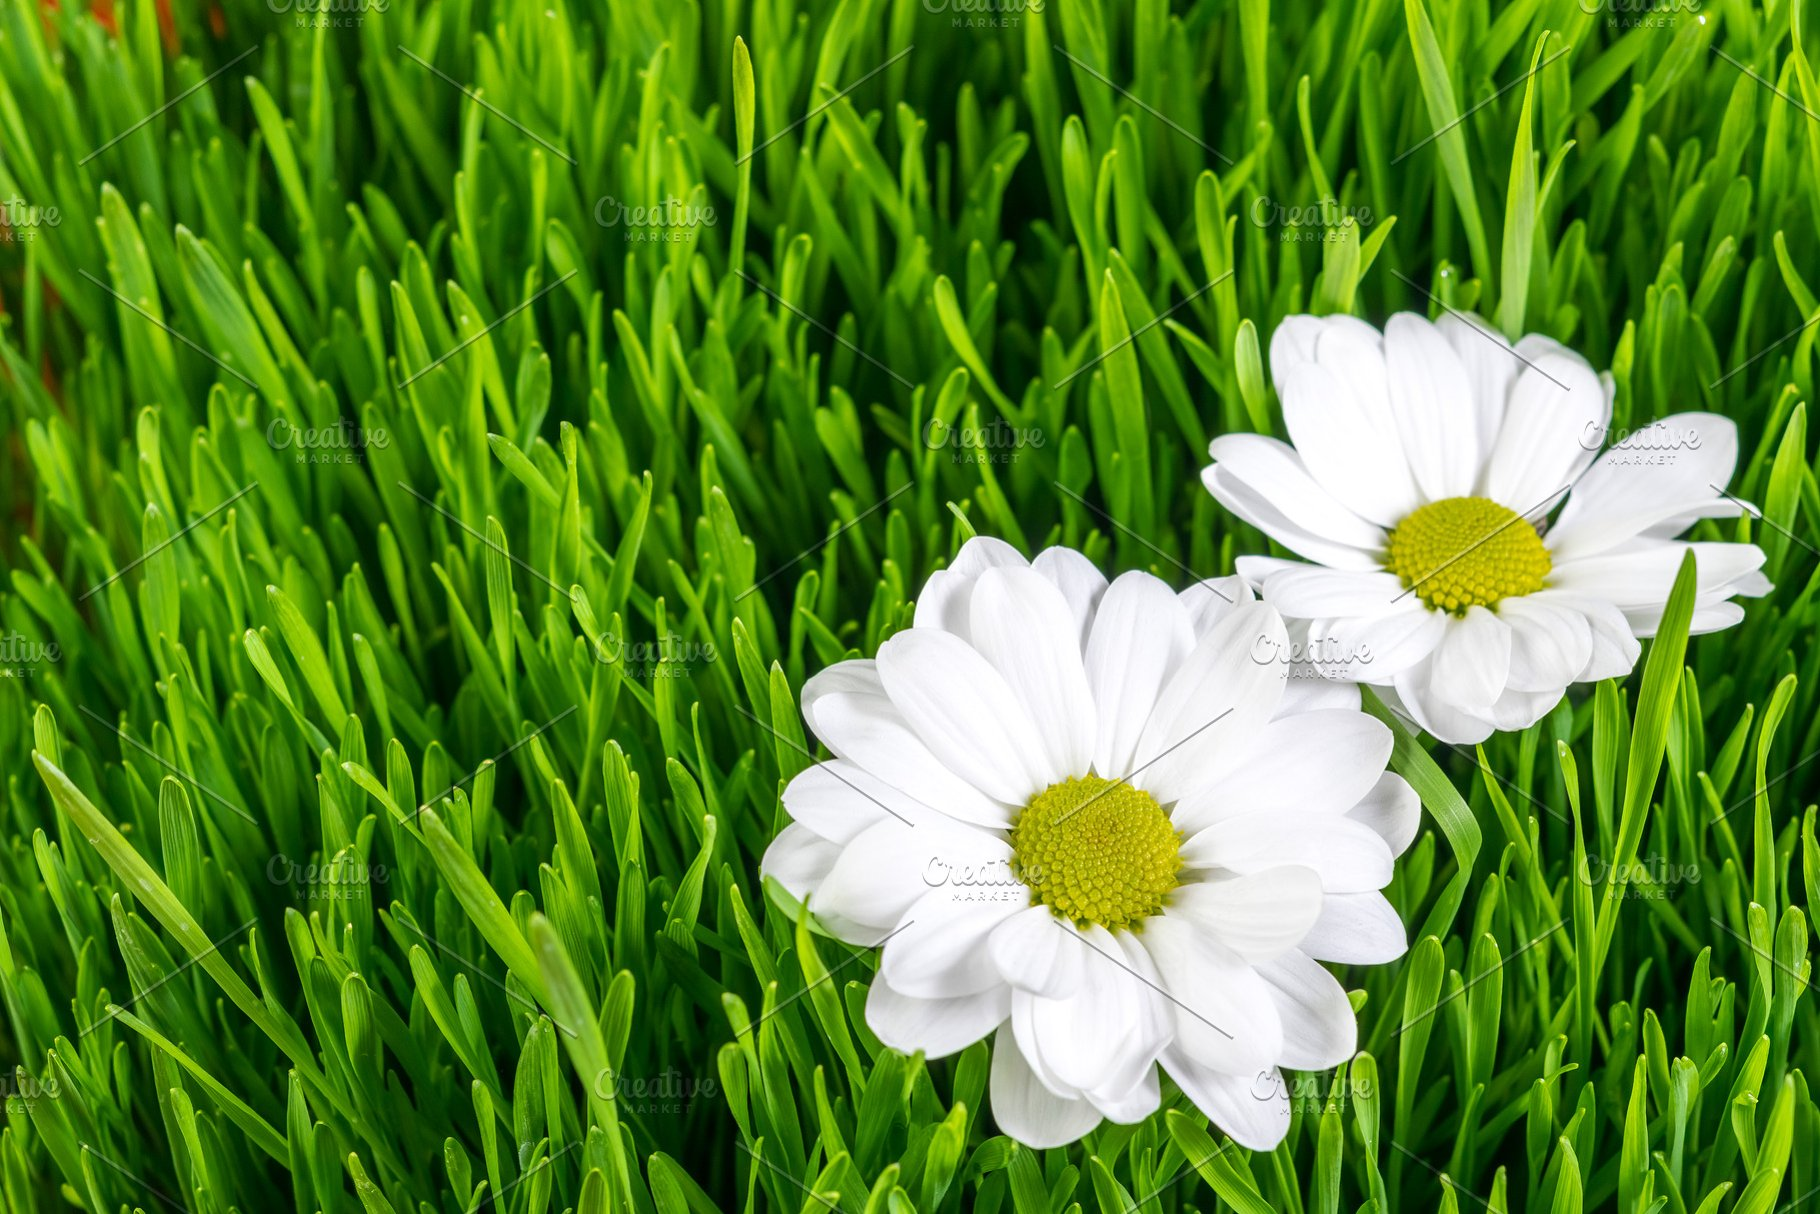papatya: (779, 549, 1422, 1127)
